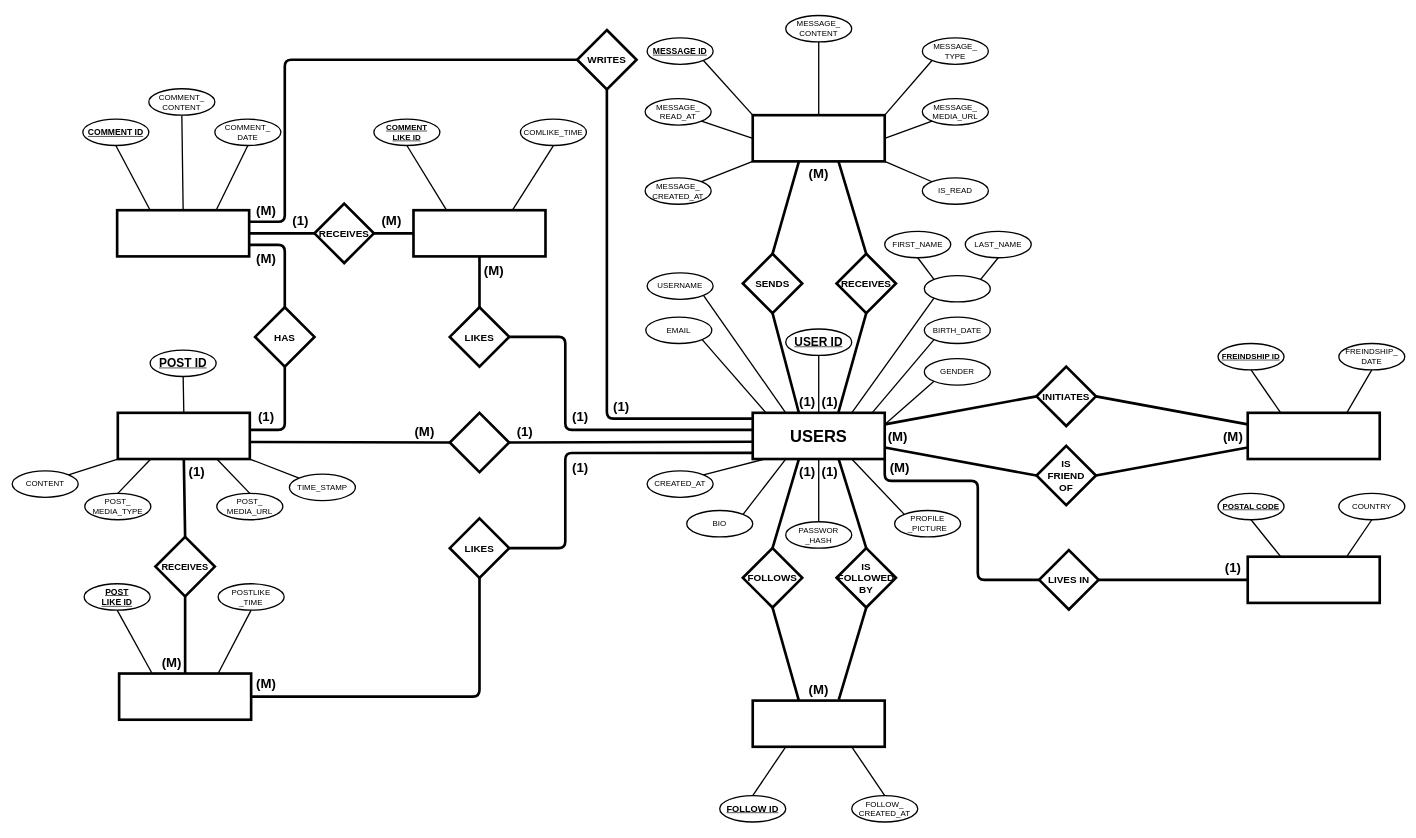
This 1416x838 diagram has some shape labels left out. Here are the shapes that lost their labels. From the top down, the box of each, then its label:
(751, 114, 886, 162): MESSAGES
(116, 209, 250, 257): COMMENTS
(412, 209, 546, 257): COMMENTLIKE
(923, 275, 991, 302): NAME
(116, 411, 251, 460): POSTS
(448, 411, 510, 473): CREATES
(1246, 411, 1381, 460): FREINDSHIPS
(1246, 555, 1381, 604): LOCATION
(117, 672, 252, 721): POSTLIKE
(751, 699, 886, 748): FOLLOW
